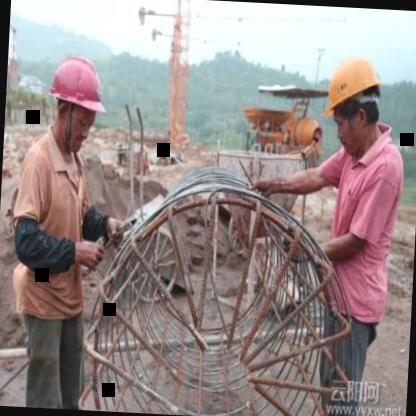helmet: (316, 38, 390, 160), (42, 48, 108, 153)
